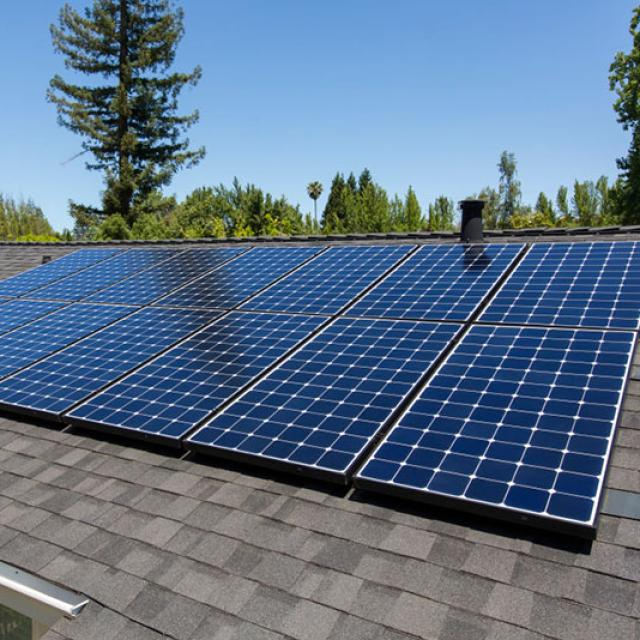clean-solar-panel: (0, 241, 640, 533)
